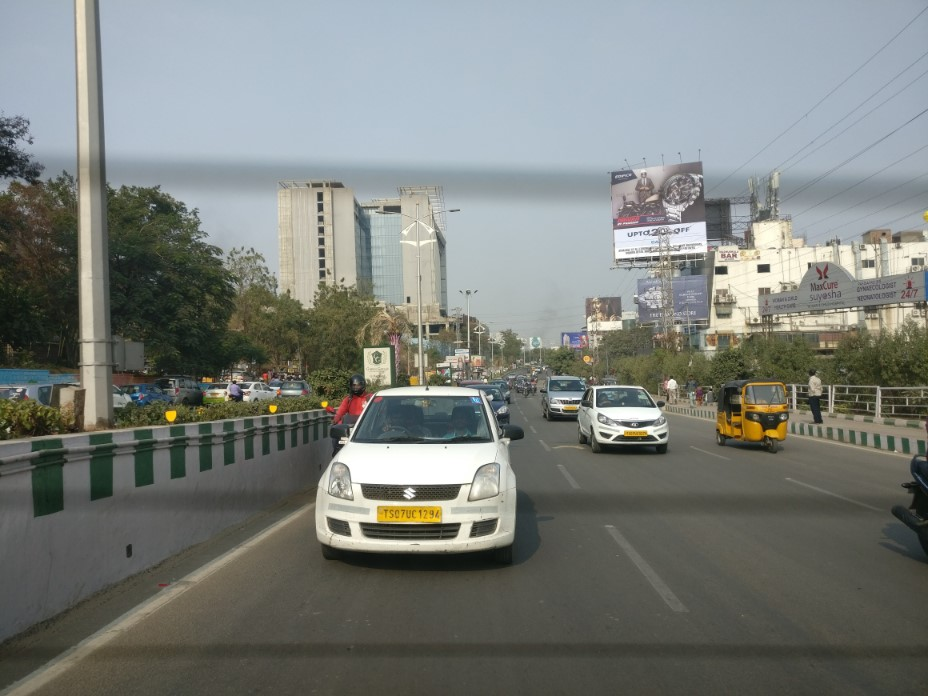swift desire: (319, 385, 518, 567)
